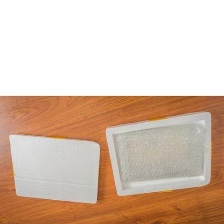foam_box: (102, 108, 217, 198), (5, 131, 102, 205)
